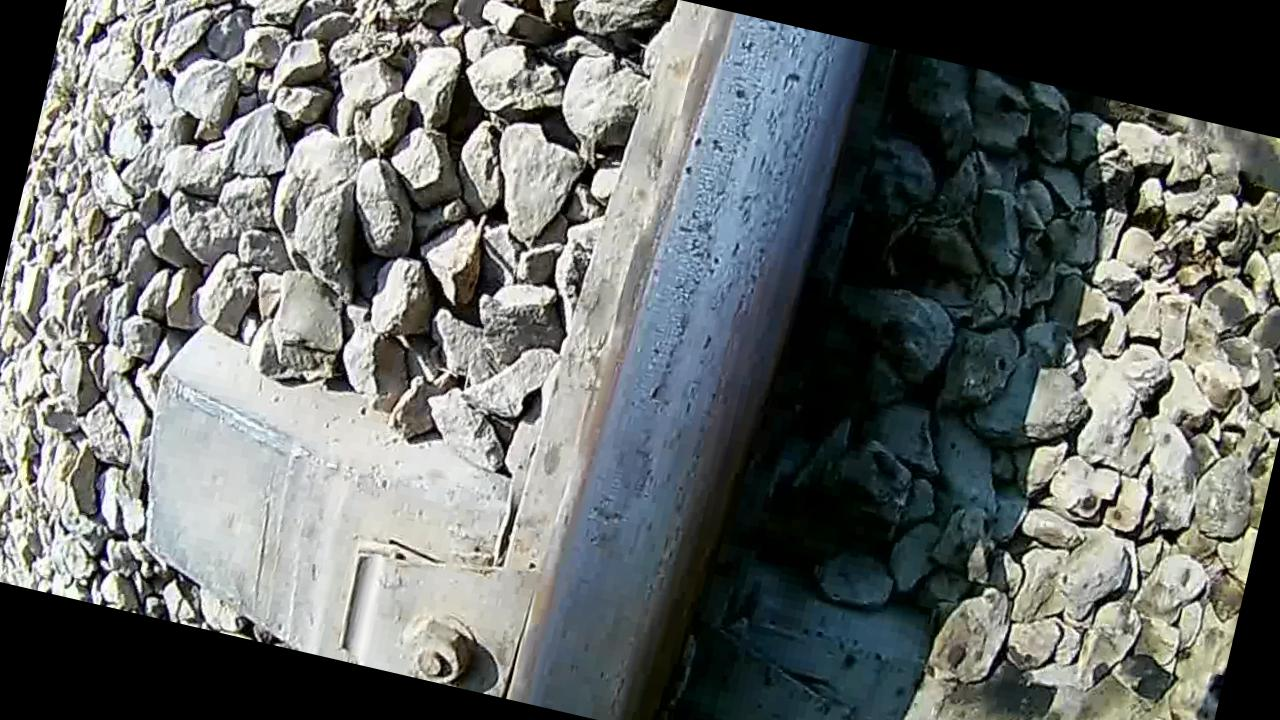crack: (521, 0, 867, 720)
